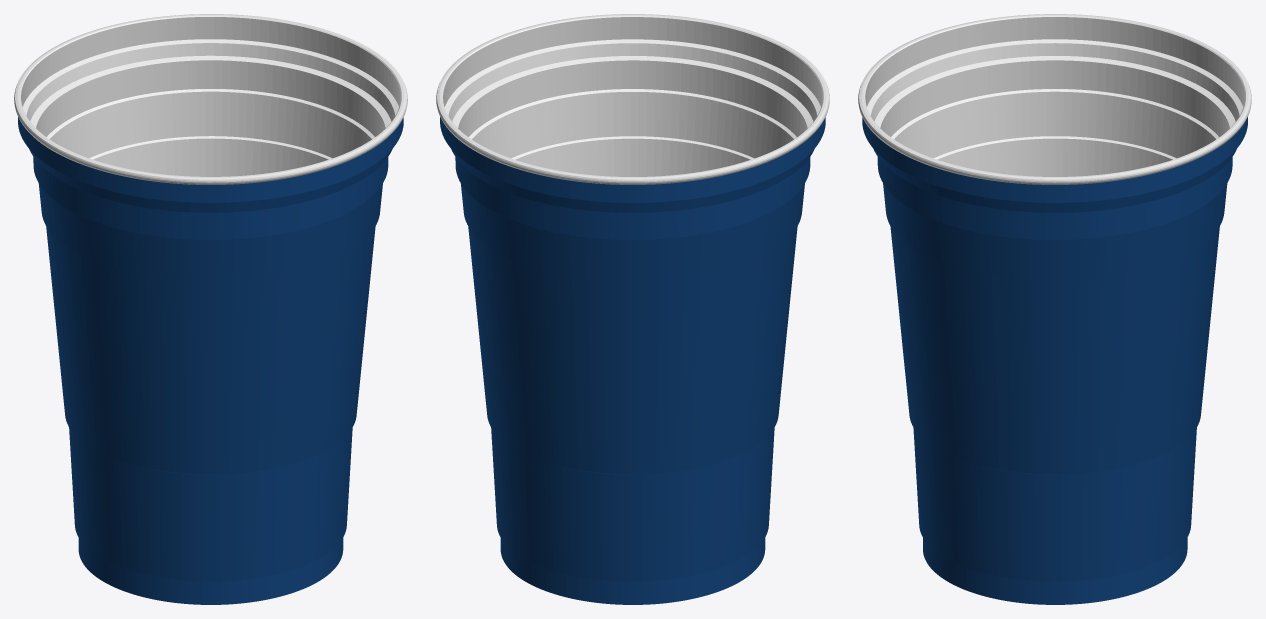
Rendered from plasticCup.obj.
3 renders of one model, left to right at view 1: azimuth 30°, elevation 25°; view 2: azimuth 150°, elevation 25°; view 3: azimuth 270°, elevation 25°, orthographic.
Parts seen in each view (by area): view 1: Circle_Circle.001, Circle.001_Circle.003; view 2: Circle_Circle.001, Circle.001_Circle.003; view 3: Circle_Circle.001, Circle.001_Circle.003.
Part boxes in pixels (<box>): Circle_Circle.001: <box>18,117,403,604</box>; Circle.001_Circle.003: <box>14,14,407,184</box>; Circle_Circle.001: <box>440,117,825,604</box>; Circle.001_Circle.003: <box>436,14,829,184</box>; Circle_Circle.001: <box>862,117,1247,604</box>; Circle.001_Circle.003: <box>858,14,1251,184</box>.
Bounding box in the file's own units: 7.88 × 10 × 7.88.
